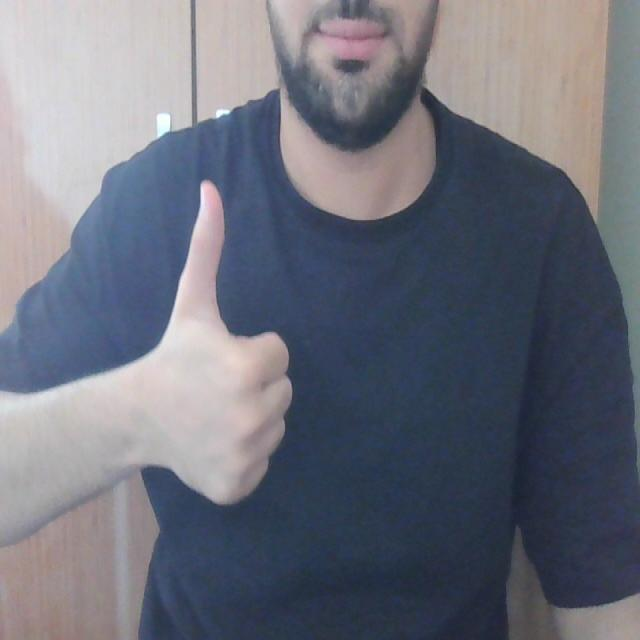Tamam: (140, 175, 298, 516)
